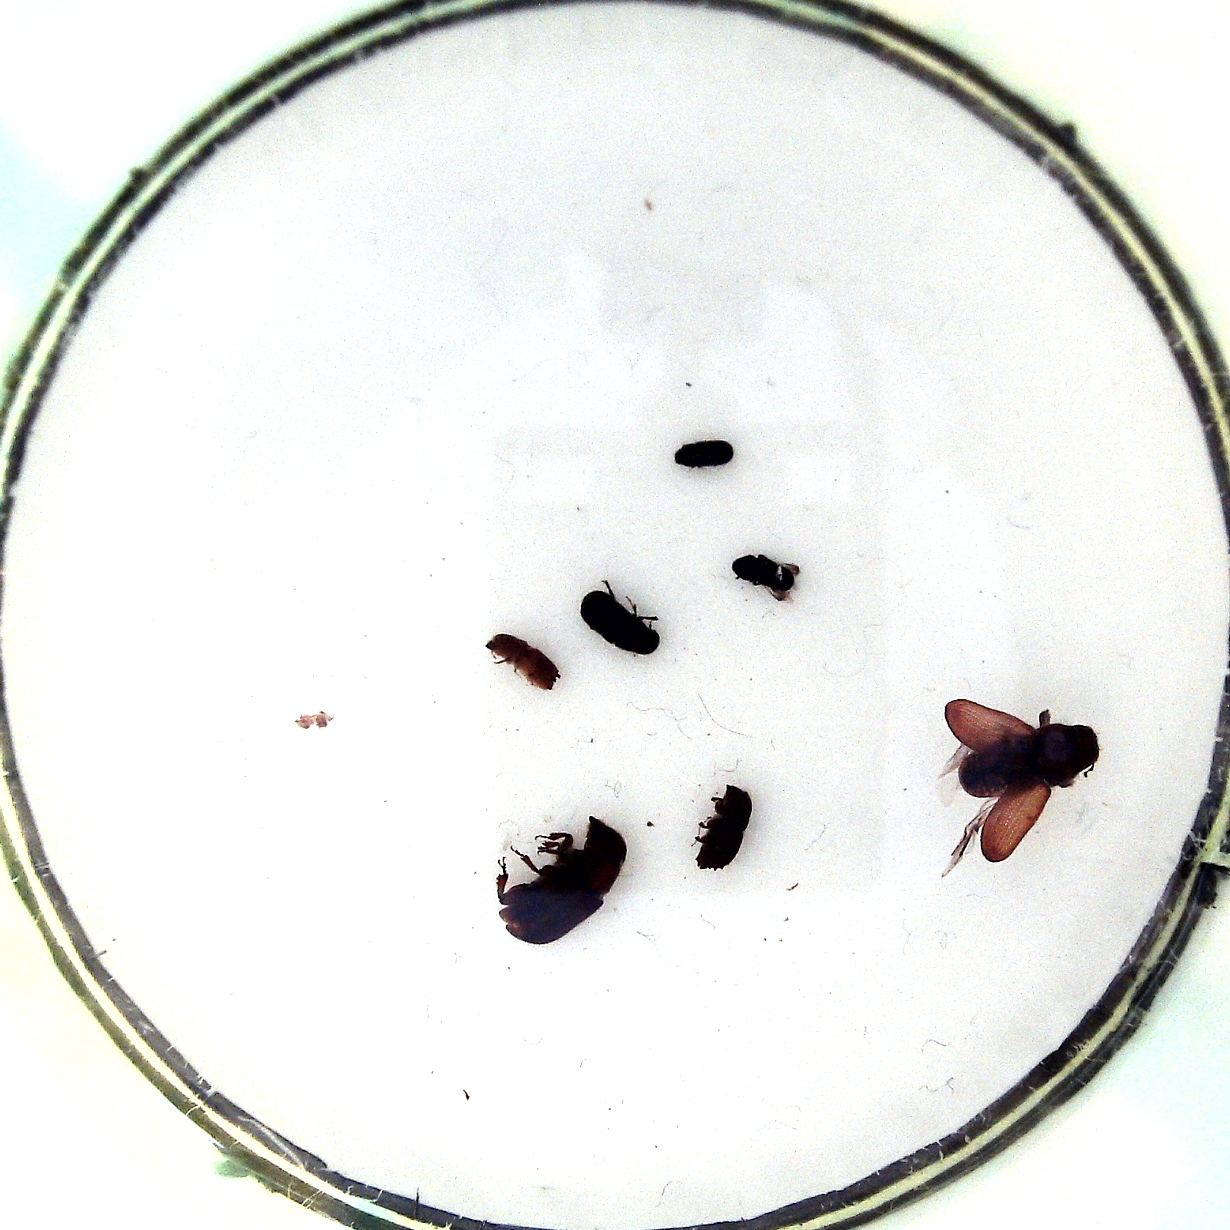Leconte: (930, 689, 1109, 874), (491, 817, 625, 945)
Linnaeus: (689, 781, 755, 877)
acuminatus: (485, 635, 561, 699)
armandi: (582, 579, 663, 656)
coleoptera: (727, 553, 805, 599), (666, 440, 738, 478)
